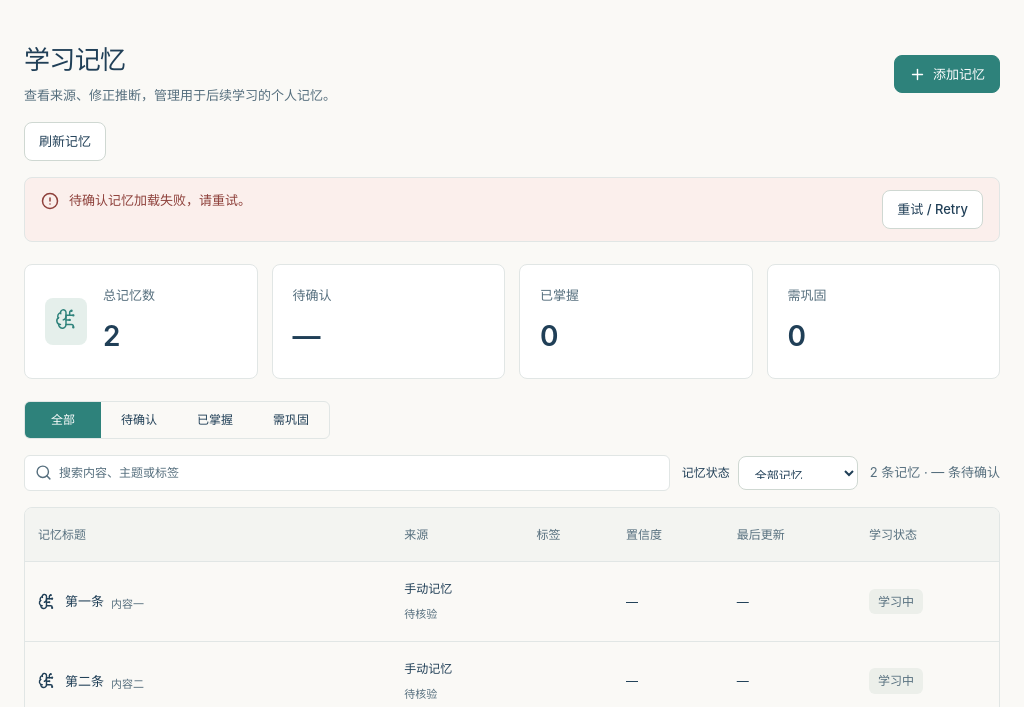
Test: partial failure keeps successful records and unknown pending count; refresh failure retains data and the unsaved detail draft
Click the button "第一条 内容一" at (91,601), box 38,582 -> 144,620
(page scrolled)
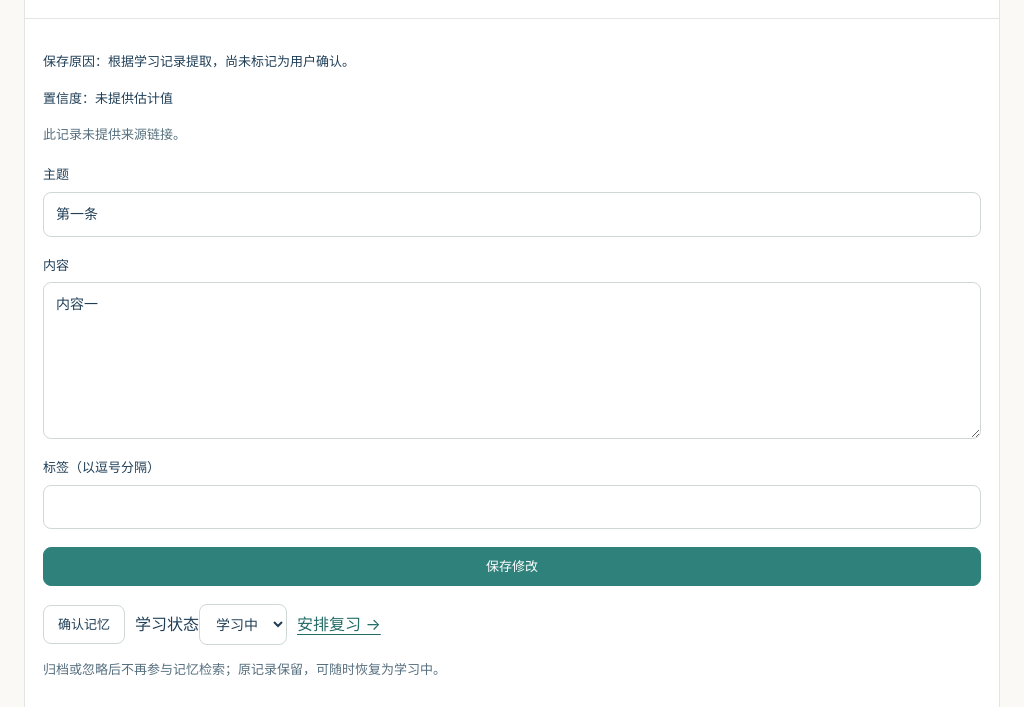
Replace the text in the text box labelled "内容" with "未保存草稿" at (512,361), box 43,282 -> 981,439
(page scrolled)
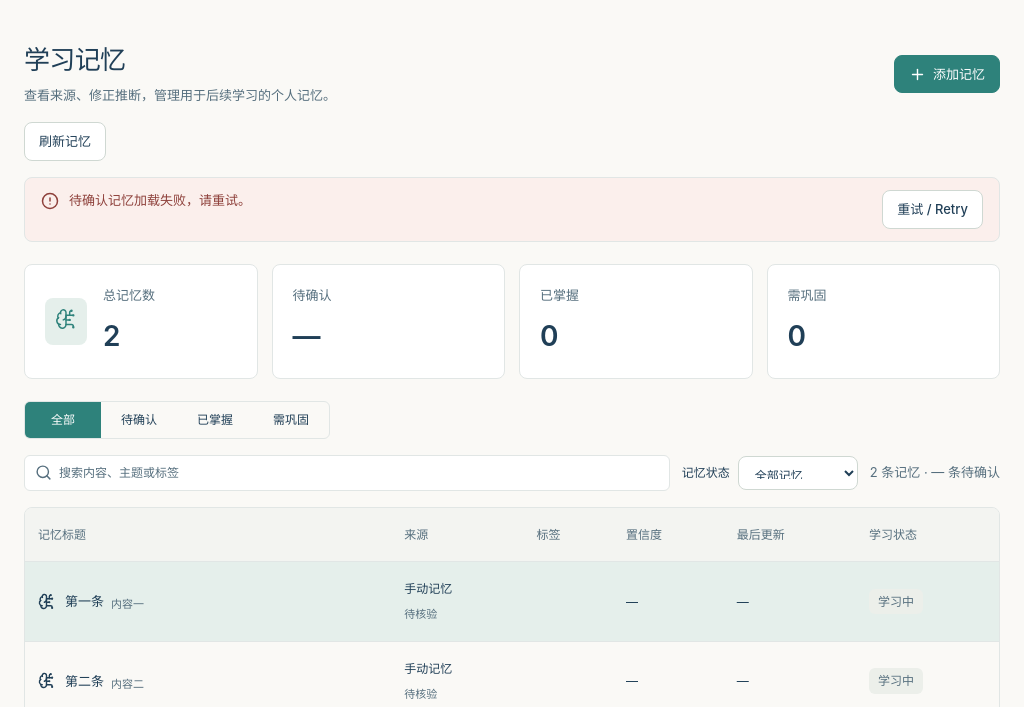
Click the button "刷新记忆" at (65,142), box 24,122 -> 106,161
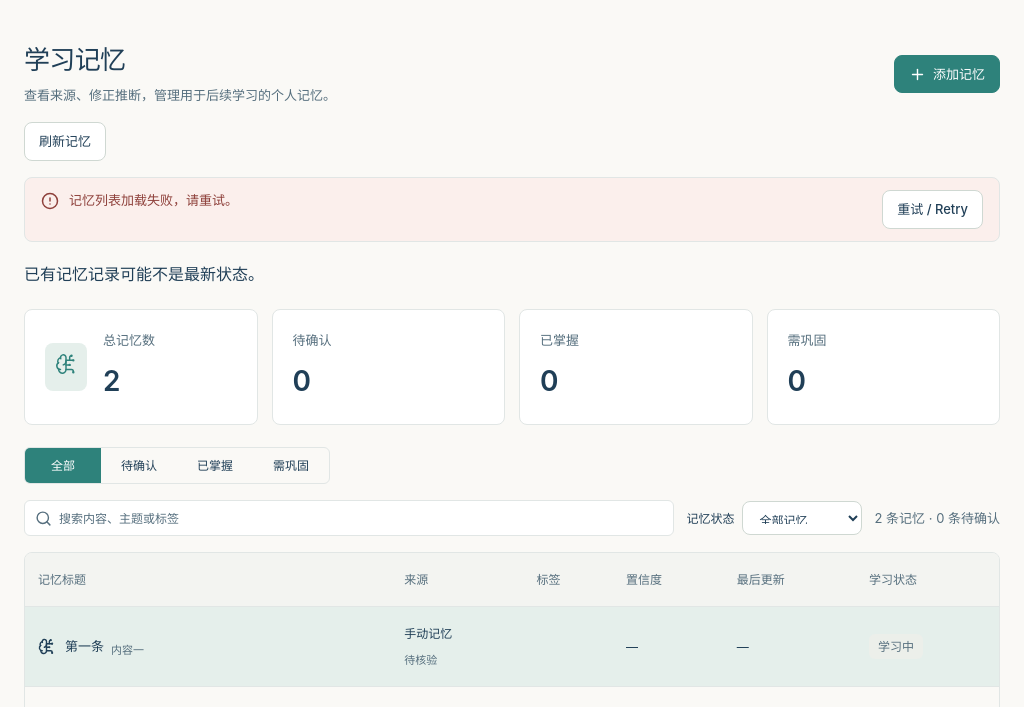
Check: the button "第一条 内容一" is shown, box 38,628 -> 144,666
Check: the text "已有记忆记录可能不是最新状态。" is shown, box 24,264 -> 264,284
Check: the 1st text "0" is shown, box 292,364 -> 311,398
